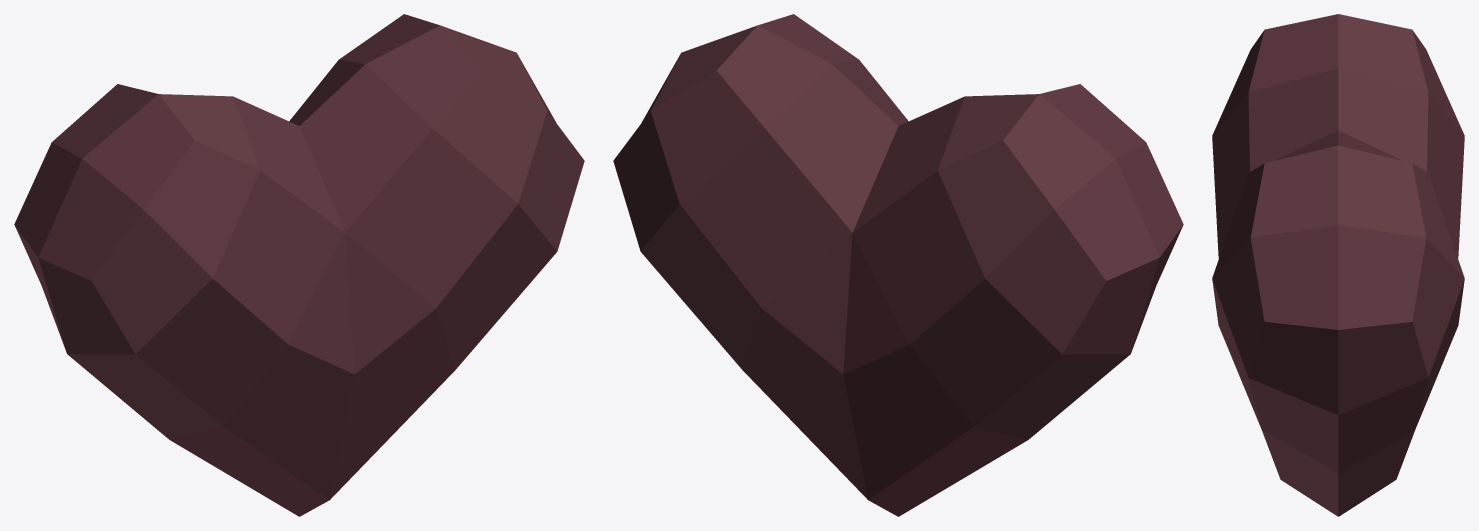
File: props-heart.glb
The picture shows the model from 3 angles, left to right: view 1: azimuth 30°, elevation 25°; view 2: azimuth 150°, elevation 25°; view 3: azimuth 270°, elevation 25°; orthographic projection. The views are drawn at different scales.
Visible parts, largest first — view 1: heart; view 2: heart; view 3: heart.
Part boxes in pixels (box(x1,y1,x2,y2)): heart: box(14, 14, 584, 516); heart: box(613, 14, 1183, 516); heart: box(1212, 14, 1464, 516).
Size of the model in its own units: 0.4527 by 0.3787 by 0.1983.
